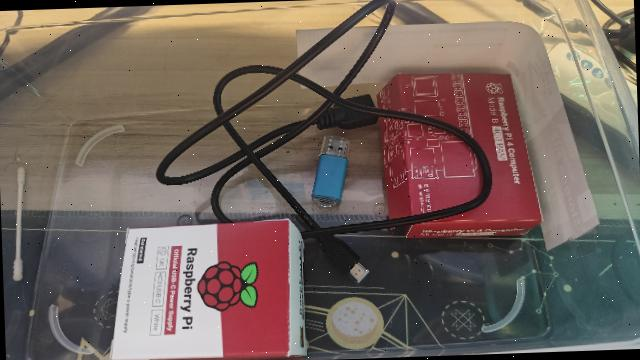charger_box: (104, 217, 312, 360)
hdmi_cable: (149, 0, 495, 245)
rpi_box: (376, 68, 546, 246)
sdcard_reader: (307, 132, 353, 210)
